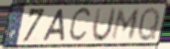7: (21, 7, 47, 44)
A: (41, 9, 66, 43)
C: (67, 5, 93, 46)
M: (109, 8, 142, 42)
Q: (137, 5, 162, 43)
U: (91, 6, 118, 44)
